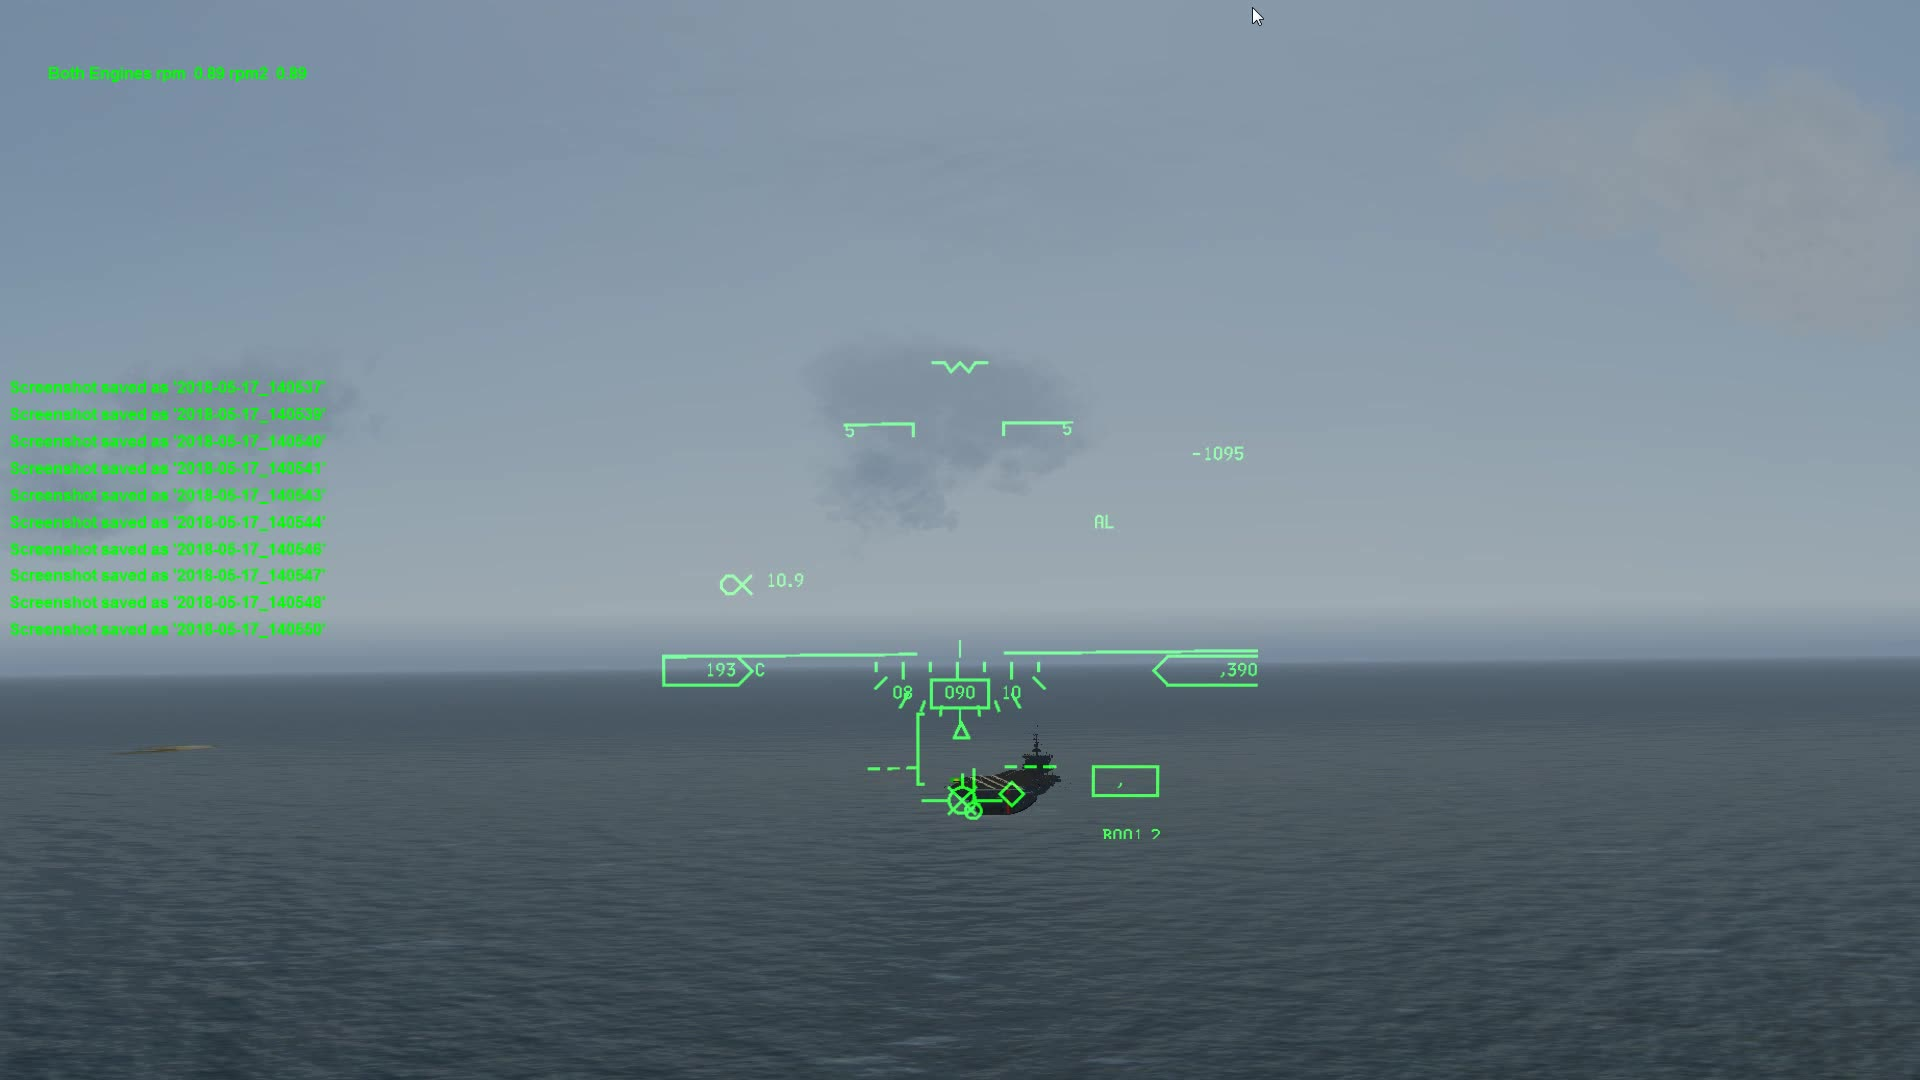speed vector: (930, 786, 997, 818)
